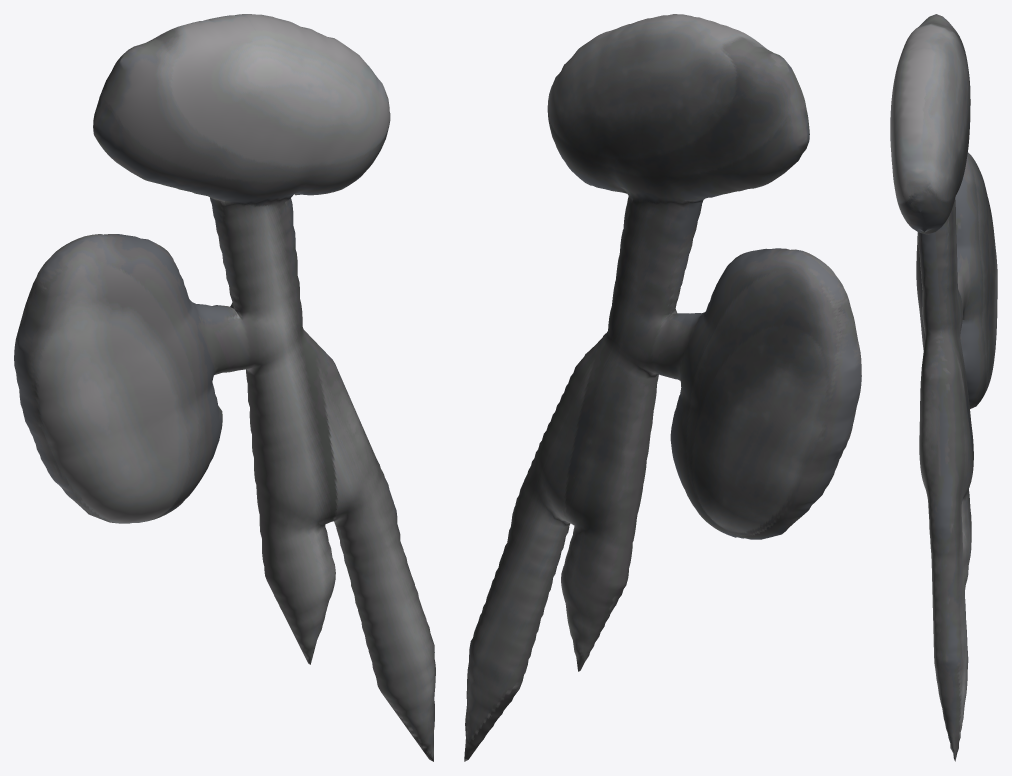
Rendered from nails.fbx.
The picture shows the model from 3 angles, left to right: view 1: azimuth 30°, elevation 25°; view 2: azimuth 150°, elevation 25°; view 3: azimuth 270°, elevation 25°; orthographic projection. The views are drawn at different scales.
Visible parts, largest first — view 1: root; view 2: root; view 3: root.
Boxes of the visible parts, left/top/right/bottom form: root: left=14, top=14, right=435, bottom=761; root: left=464, top=14, right=861, bottom=761; root: left=890, top=14, right=997, bottom=761.
Size of the model in its own units: 0.4173 by 0.786 by 0.1205.
1 material, 1 textured.
